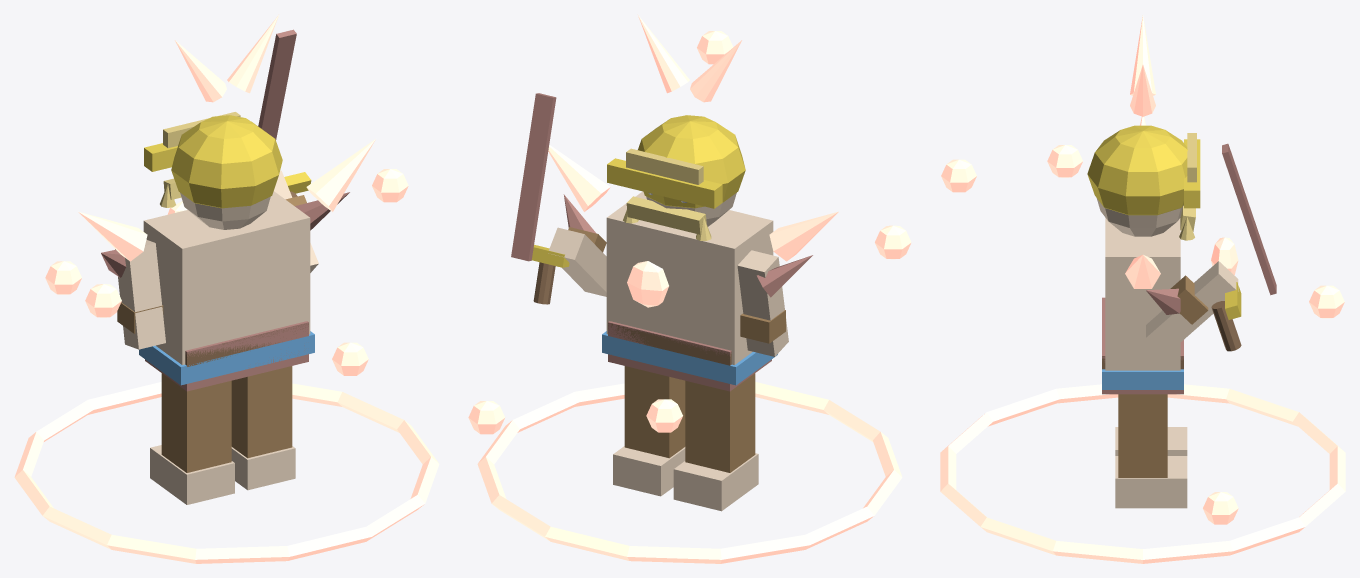
File: evolved_barbarians.glb
3 views of the same model, side by side, from view 1: azimuth 30°, elevation 25°; view 2: azimuth 150°, elevation 25°; view 3: azimuth 270°, elevation 25° (orthographic). The views are drawn at different scales.
Parts seen in each view (by area): view 1: evolved_barbarians; view 2: evolved_barbarians; view 3: evolved_barbarians.
Part boxes in pixels (left/top/right/bottom): evolved_barbarians: left=14, top=14, right=439, bottom=563; evolved_barbarians: left=468, top=14, right=911, bottom=563; evolved_barbarians: left=940, top=15, right=1345, bottom=563.
Size of the model in its own units: 2.79 by 3.29 by 2.72.
